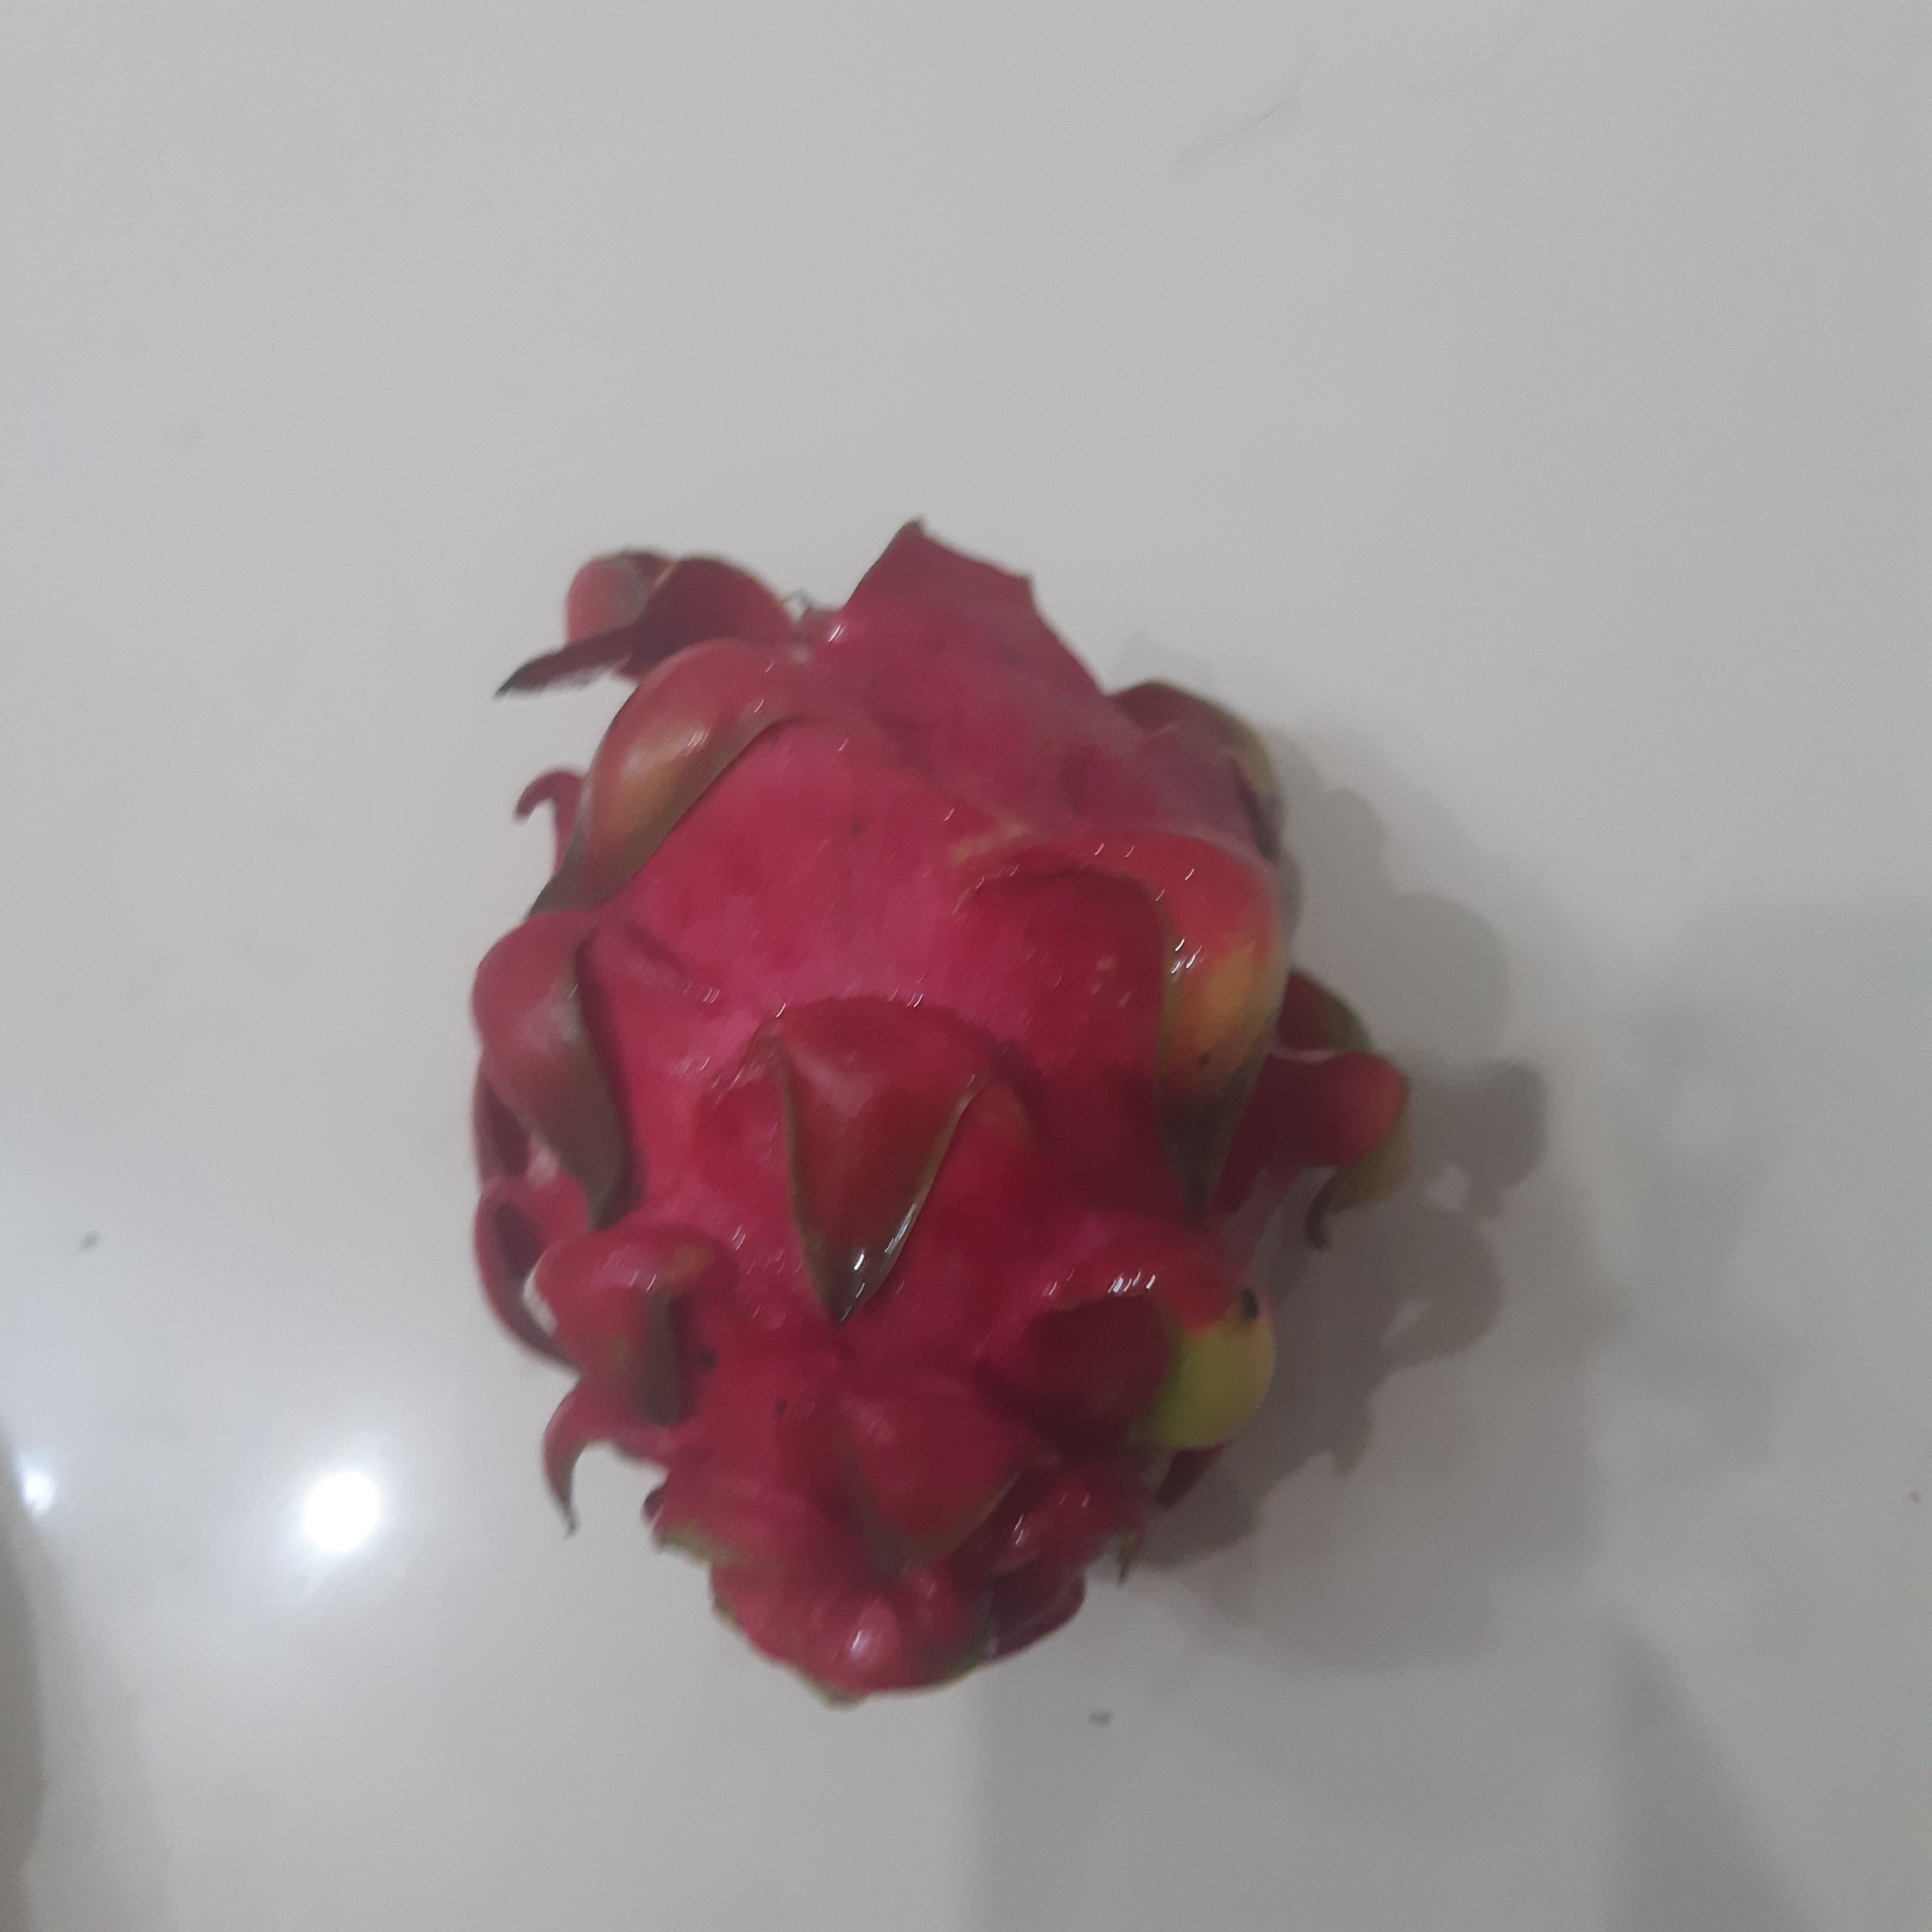Thanh long: (497, 545, 1334, 1706)
